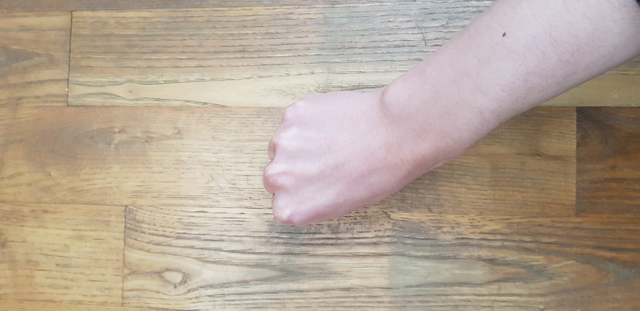Rock: (244, 89, 443, 238)
